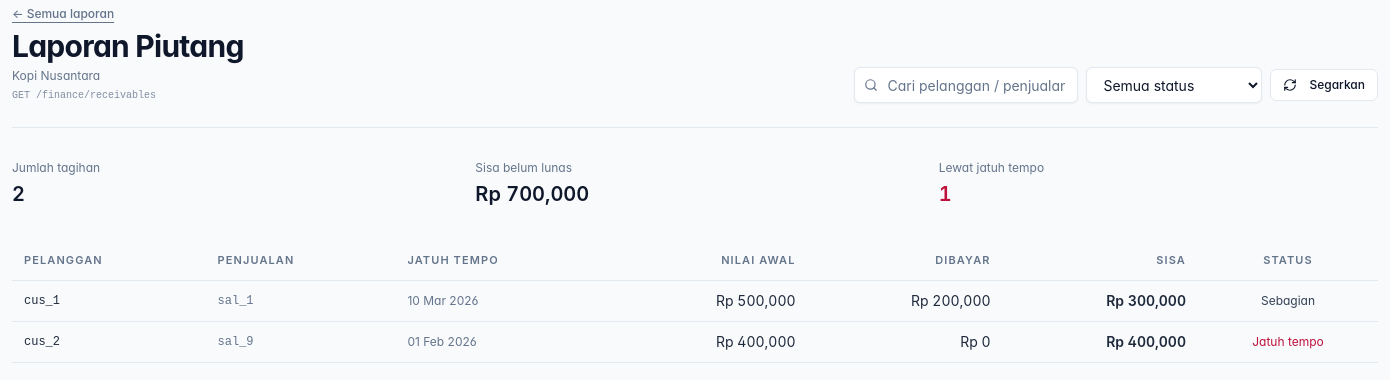
Test: Phase 7 — Reports workspace › receivables report › filters by status using backend-provided status values
Expected: the text "cus_1" is shown, [12,280,206,322]
Step 1. Select "Jatuh tempo" in the dropdown named "Filter status piutang" → (1174,85), box [1086,67,1262,103]
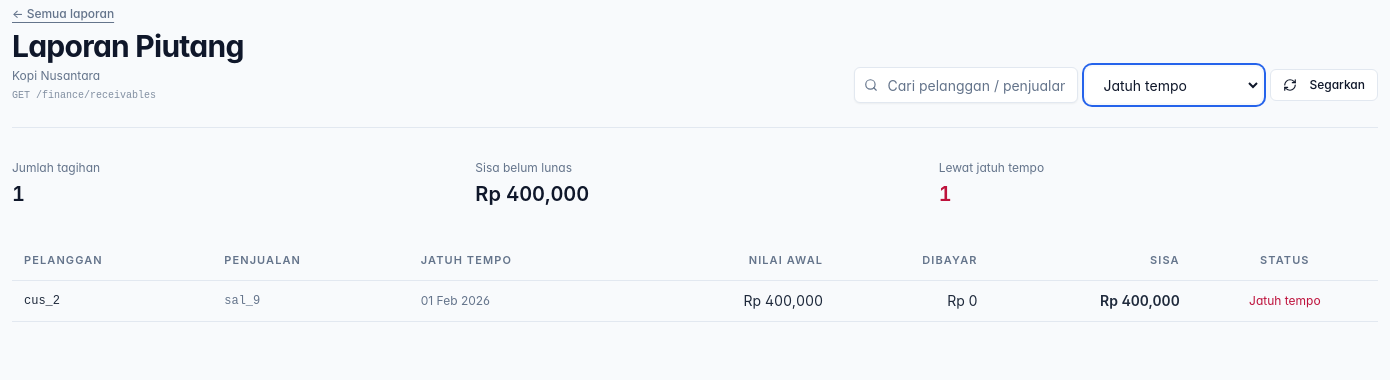
Expected: the text "cus_2" is shown, [12,280,212,322]
Expected: the text "cus_1" is gone
